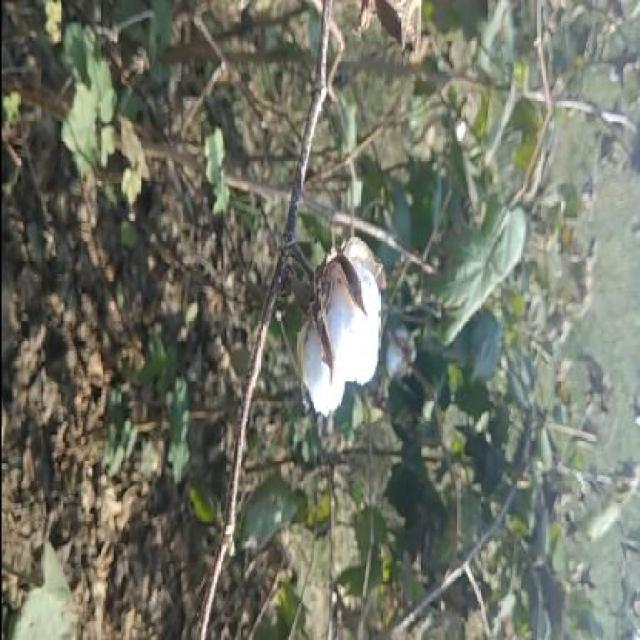cotton_ready: (262, 224, 400, 418)
